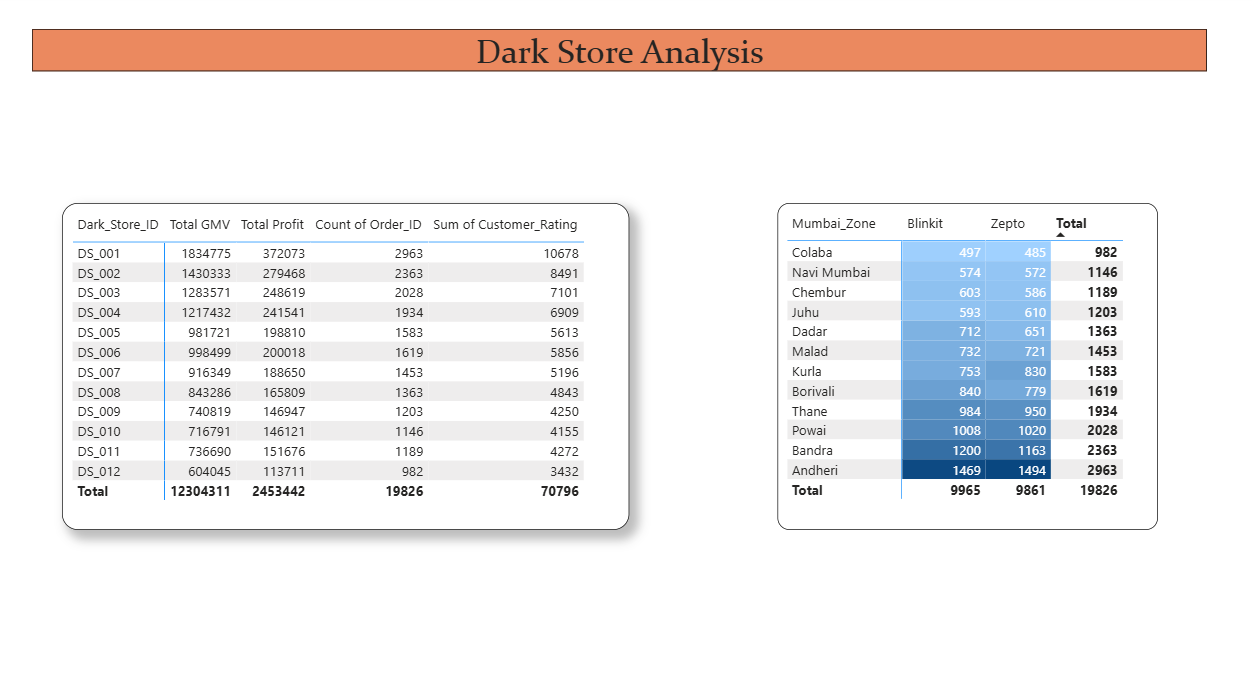

What the dashboard file says about the page in this screenshot:
{"tool":"powerbi","page":{"name":"Page 4","canvas":[1280,720],"ordinal":3},"visuals":[{"type":"pivotTable","fields":{"Rows":["mumbai_qcommerce_enriched.Dark_Store_ID"],"Values":["mumbai_qcommerce_enriched.Total GMV","mumbai_qcommerce_enriched.Total Profit","CountNonNull(mumbai_qcommerce_enriched.Order_ID)","Avg(mumbai_qcommerce_enriched.Customer_Rating)"]},"box":[67.1,211.4,572.9,330],"z":0},{"type":"pivotTable","fields":{"Rows":["mumbai_qcommerce_enriched.Mumbai_Zone"],"Columns":["mumbai_qcommerce_enriched.Company"],"Values":["CountNonNull(mumbai_qcommerce_enriched.Order_ID)"]},"box":[788.6,211.4,384.3,330],"z":1000},{"type":"textbox","title":"Dark Store Analysis","box":[35.7,35.7,1185.7,42.9],"z":2000}]}

Visuals, with their boxes in screenshot pixels (x1, y1, x2, y2), scaled from the page's 1280x720 canvas onto the 1252x686 screenshot:
pivotTable - mumbai_qcommerce_enriched.Dark_Store_ID x mumbai_qcommerce_enriched.Total GMV: bbox=(66, 201, 626, 516)
pivotTable - mumbai_qcommerce_enriched.Mumbai_Zone x mumbai_qcommerce_enriched.Company: bbox=(771, 201, 1147, 516)
"Dark Store Analysis" textbox: bbox=(35, 34, 1195, 75)
